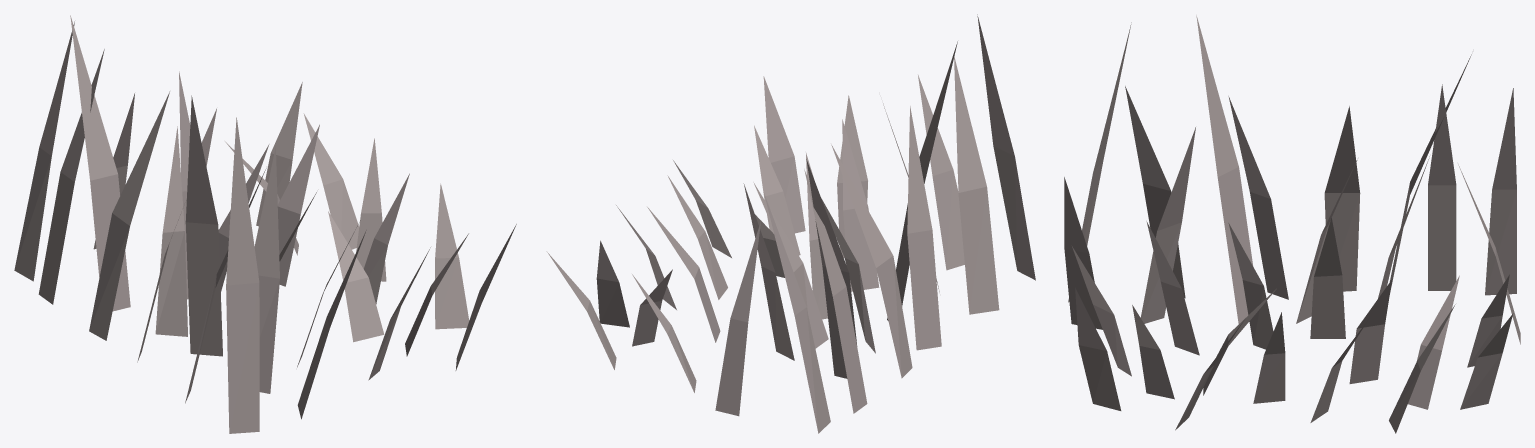
The picture shows the model from 3 angles, left to right: view 1: azimuth 30°, elevation 25°; view 2: azimuth 150°, elevation 25°; view 3: azimuth 270°, elevation 25°; orthographic projection. The views are drawn at different scales.
Size of the model in its own units: 96 by 89 by 128.
1 material, 1 textured.
